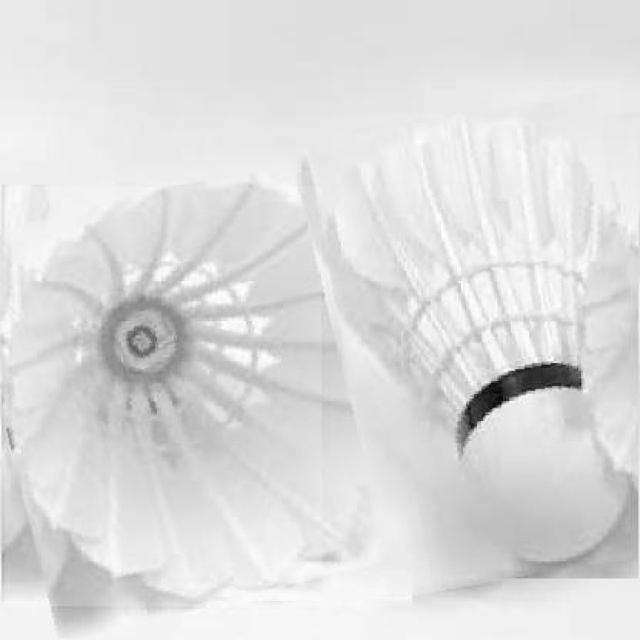Shuttlecock: (4, 186, 411, 605), (320, 117, 634, 569)
